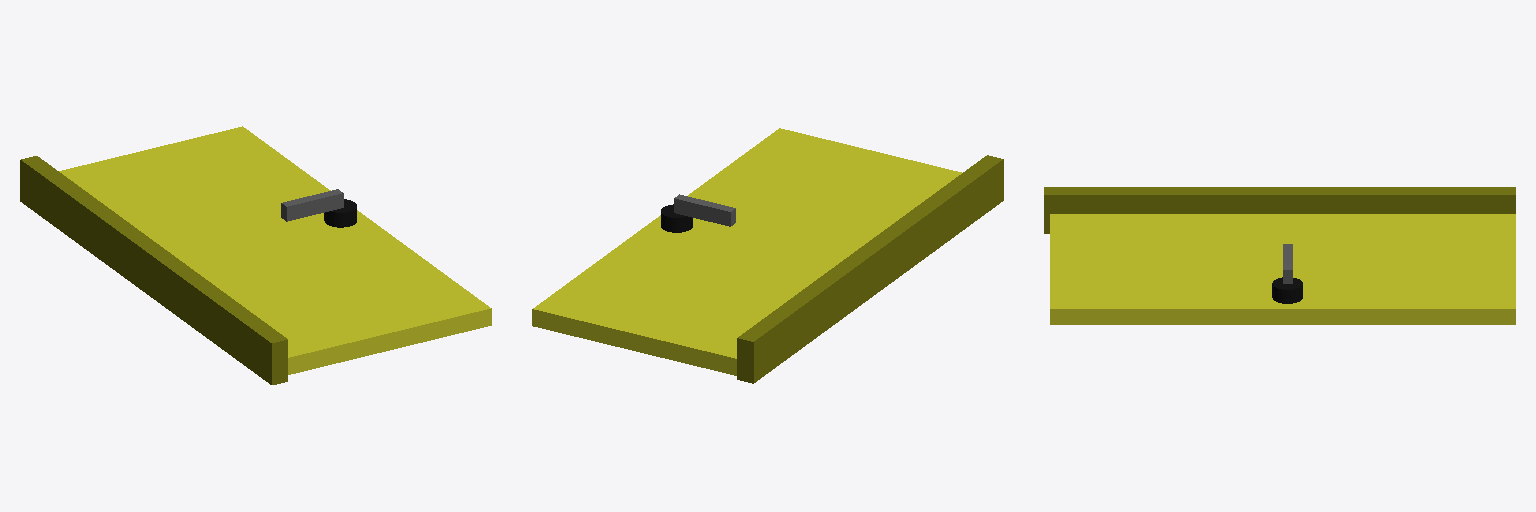
The robot description file, URDF, robot "door":
<robot name="door">
  
  <link name="door_pole">
    <visual>
      <origin xyz="0 0.46 0" rpy="0 0 0"/>
      <geometry>
        <box size="0.035 0.92 0.085"/>
      </geometry>
      <material name="dark_yellow">
        <color rgba="0.5 0.5 0.1 1"/>
      </material>
    </visual>	
    <collision>
      <origin xyz="0 0.46 0" rpy="0 0 0"/>
      <geometry>
        <box size="0.035 0.92 0.085"/>
      </geometry>
    </collision>
  </link>

  <link name="door_panel">
    <visual>
      <origin xyz="0.2175 0.465 -0.0175" rpy="0 0 0"/>
      <geometry>
        <box size="0.435 0.91 0.035"/>
      </geometry>
      <material name="b">
        <color rgba="0.8 0.8 0.2 1"/>
      </material>
    </visual>	
    <collision>
      <origin xyz="0.2175 0.465 -0.0175" rpy="0 0 0"/>
      <geometry>
        <box size="0.435 0.91 0.035"/>
      </geometry>
    </collision>
  </link>

  <link name="door_handle_axel">
    <visual>
      <origin rpy="0 0 1"/>
      <geometry>
        <cylinder radius="0.03" length="0.03"/>
      </geometry>
      <material name="black">
        <color rgba="0.1 0.1 0.1 1.0"/>
      </material>
    </visual>	
    <collision>
      <origin rpy="0 0 1"/>
      <geometry>
        <cylinder radius="0.03" length="0.03"/>
      </geometry>
    </collision>
  </link>

  <link name="door_handle">
    <visual>
      <origin xyz="-0.06 0 0"/>
      <geometry>
        <box size="0.12 0.02 0.03"/>
      </geometry>
      <material name="silver">
        <color rgba="0.4 0.4 0.4 1"/>
      </material>
    </visual>
    <collision>
      <origin xyz="-0.06 0 0"/>
      <geometry>
        <box size="0.12 0.02 0.03"/>
      </geometry>
    </collision>
  </link>

  <joint name="door_panel_pole" type="revolute">
    <parent link="door_pole"/>
    <child link="door_panel"/>
    <origin xyz="0.0175 0 0"/>
    <axis xyz="0 1 0"/>
    <limit lower="-1.57" upper="0" effort="100" velocity="3"/>
  </joint>
  
  <joint name="door_handle_axel_panel" type="fixed">
    <parent link="door_panel"/>
    <child link="door_handle_axel"/>
    <origin xyz="0.385 0.475 0.01575"/>
  </joint>

  <joint name="door_handle_axel" type="revolute">
    <parent link="door_handle_axel"/>
    <child link="door_handle"/>
    <origin xyz="0 0 0.03"/>
    <axis xyz="0 0 1"/>
    <limit lower="0" upper="1.57" effort="10" velocity="3"/>
  </joint>

</robot>

--- Facts derived from the render (not from the file) ---
Views: 3 orthographic renders of the robot side by side, from view 1: azimuth 30°, elevation 25°; view 2: azimuth 150°, elevation 25°; view 3: azimuth 270°, elevation 25°.
Model door with 4 links and 3 joints (2 revolute, 1 fixed), rooted at door_pole, posed all joints at 0.
Links seen in each view (by area): view 1: door_panel, door_pole, door_handle, door_handle_axel; view 2: door_panel, door_pole, door_handle, door_handle_axel; view 3: door_panel, door_pole, door_handle_axel.
Link boxes in pixels (bbox=[...]): door_panel: bbox=[59, 126, 491, 374]; door_pole: bbox=[20, 156, 287, 384]; door_handle: bbox=[281, 189, 343, 221]; door_handle_axel: bbox=[324, 199, 356, 227]; door_panel: bbox=[532, 128, 961, 375]; door_pole: bbox=[737, 155, 1003, 383]; door_handle: bbox=[674, 194, 735, 226]; door_handle_axel: bbox=[661, 204, 692, 232]; door_panel: bbox=[1050, 214, 1515, 324]; door_pole: bbox=[1044, 187, 1515, 233]; door_handle_axel: bbox=[1272, 277, 1302, 303].
Size in the robot's own frame: 0.47 by 0.92 by 0.1032 metres.
Geometry: primitives only (box / cylinder / sphere), no mesh files.
